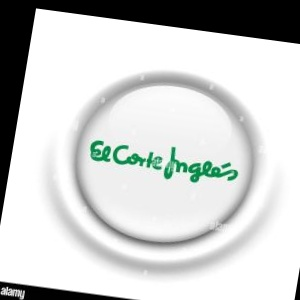corte_ingles: (194, 89, 290, 210)
